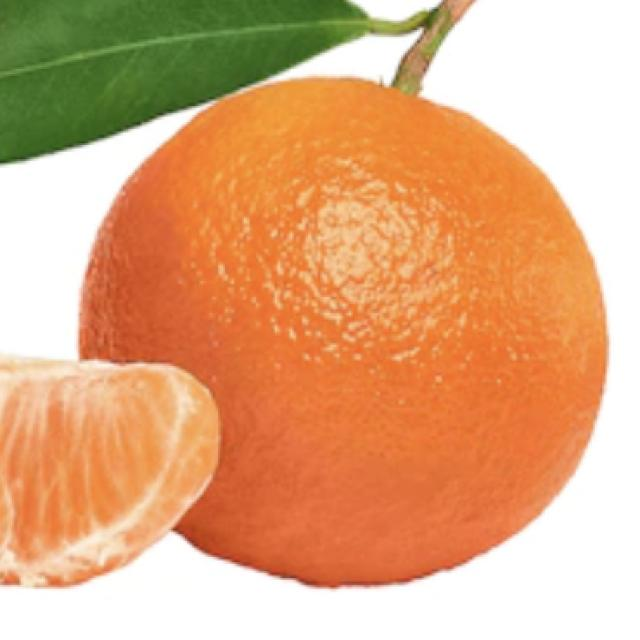orange: (72, 67, 621, 600)
